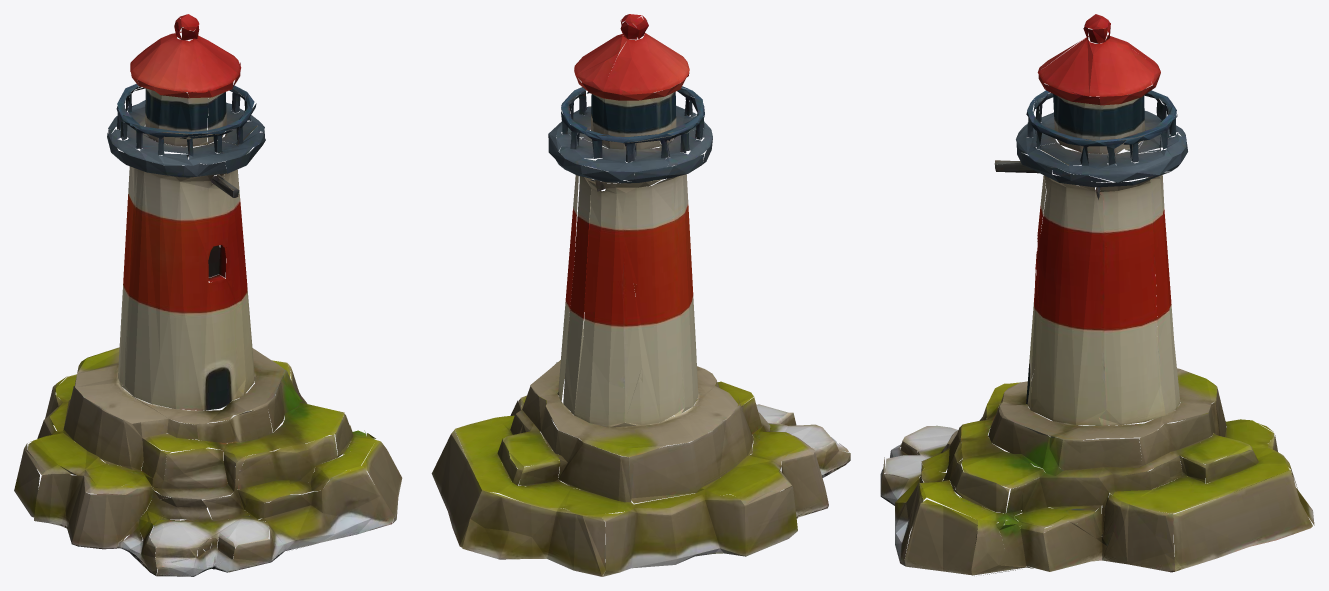
File: lighthouse.glb
3 renders of one model, left to right at view 1: azimuth 30°, elevation 25°; view 2: azimuth 150°, elevation 25°; view 3: azimuth 270°, elevation 25°, orthographic. The views are drawn at different scales.
Parts seen in each view (by area): view 1: geometry_0; view 2: geometry_0; view 3: geometry_0.
Boxes of the visible parts, x1=… form: geometry_0: x1=14, y1=14, x2=402, y2=576; geometry_0: x1=431, y1=14, x2=850, y2=576; geometry_0: x1=880, y1=14, x2=1314, y2=575.
Size of the model in its own units: 0.7022 by 1 by 0.8061.
1 material, 1 textured.
